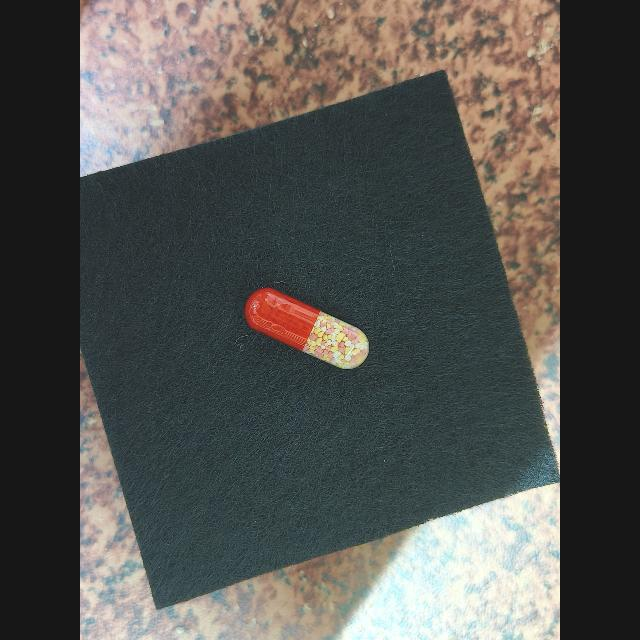Intact Capsule: (245, 288, 369, 369)
